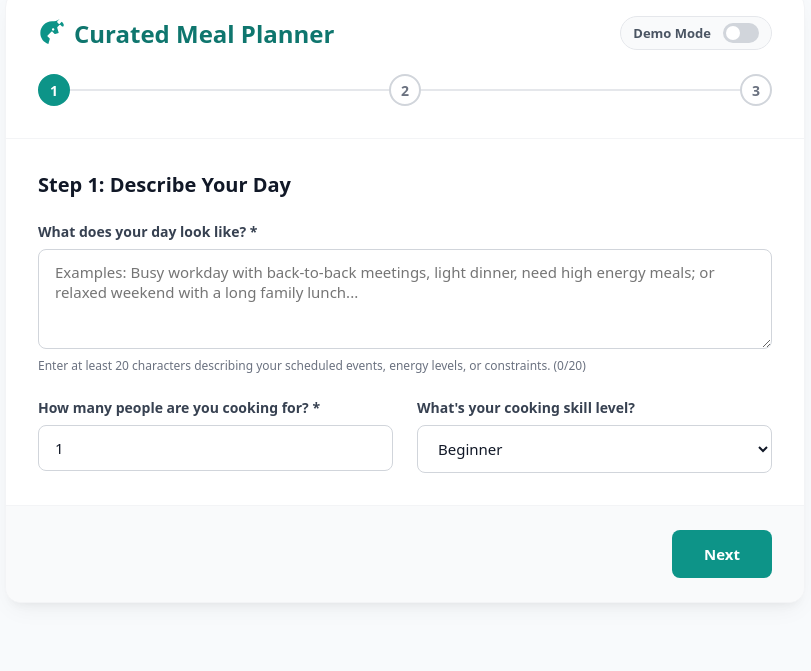
React UI - Wizard Navigation & Validation › API error handling: mock fetch to reject expect ERR_NETWORK message to appear in DOM
Click the checkbox: (741, 33) 723,23 -> 759,43
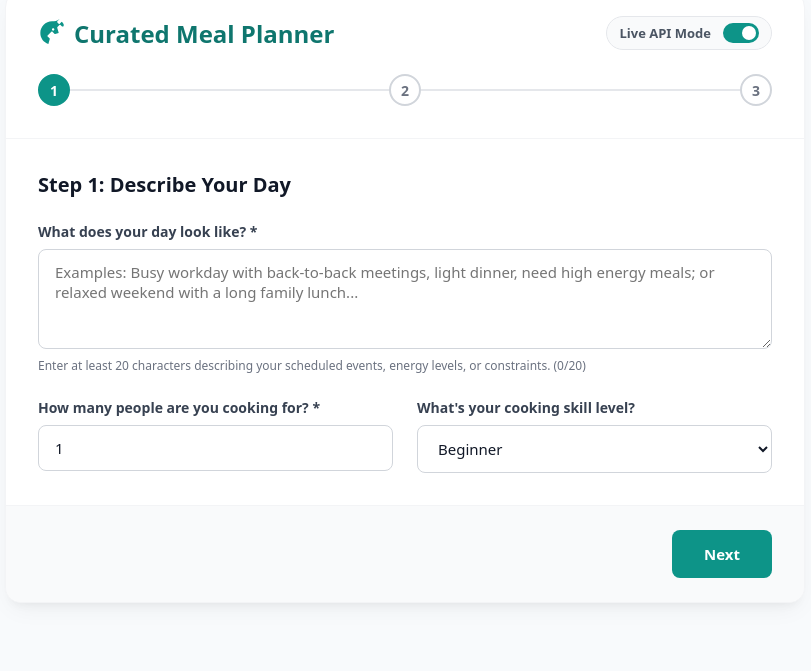
Replace the text in the text box labelled "What does your day look like? *" with "Working hard all day in the office and need healthy dinners": (405, 299) 38,249 -> 772,349
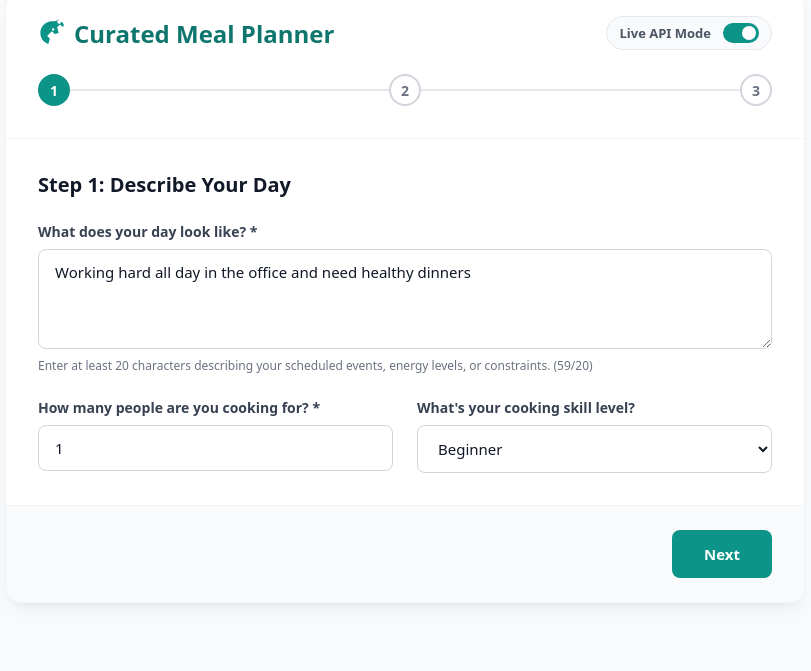
Click the button with aria-label "Proceed to step 2": (722, 554) 672,530 -> 772,578
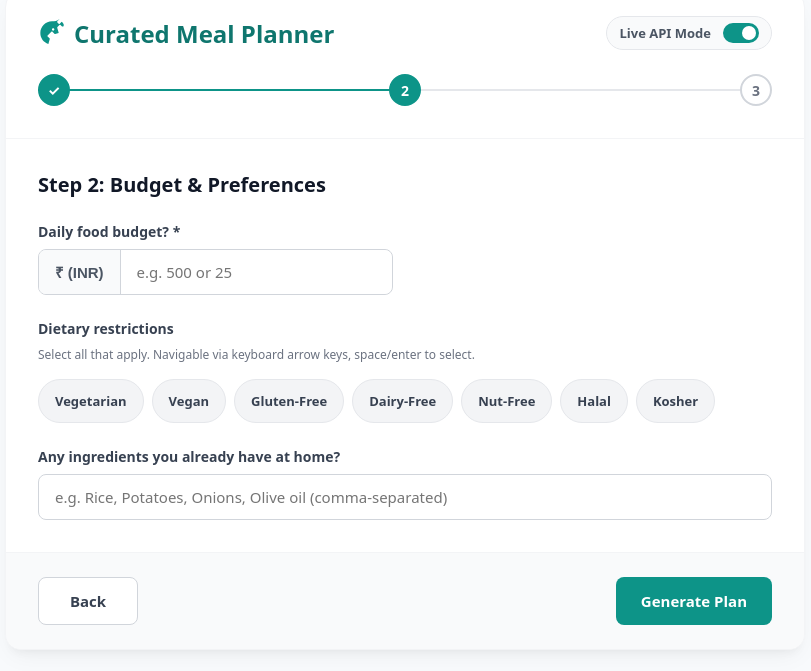
Note: Input budget
In the number field labelled "Daily food budget? *": (256, 272) 121,250 -> 392,294, type "500"
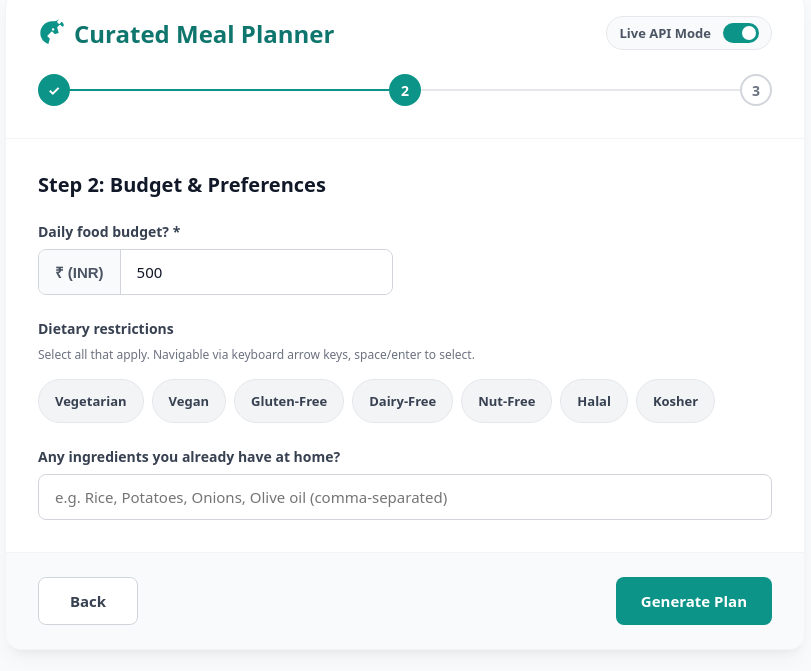
Note: Click Generate
Click the button with aria-label "Generate meal plan": (694, 601) 616,577 -> 772,625
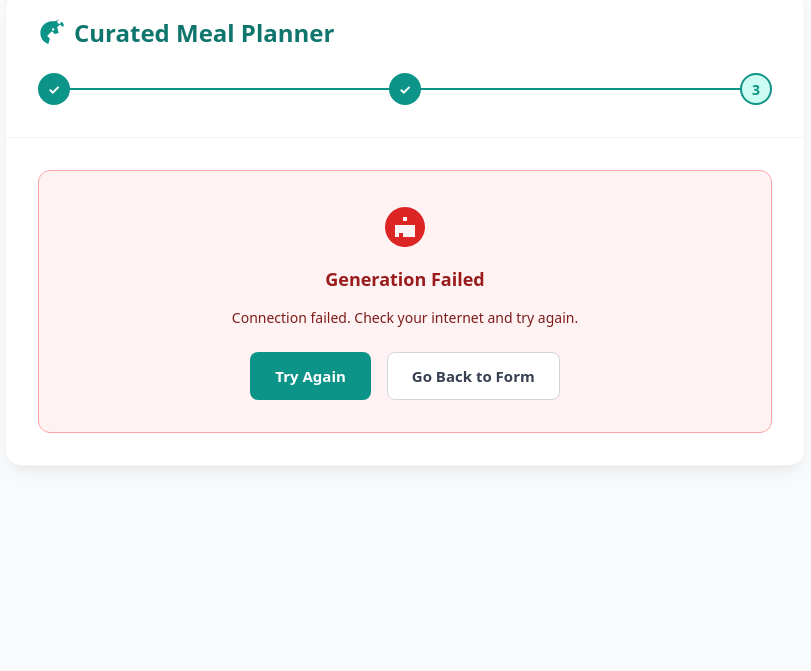
Result: the text "Connection failed. Check your internet and try again." is shown at 232,307 -> 578,328
